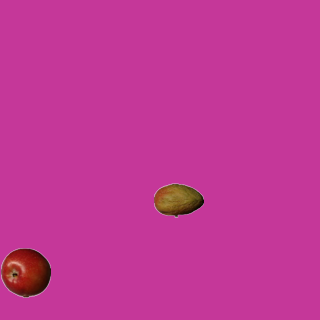Apple Braeburn: (0, 247, 50, 297)
Papaya: (153, 175, 203, 225)
